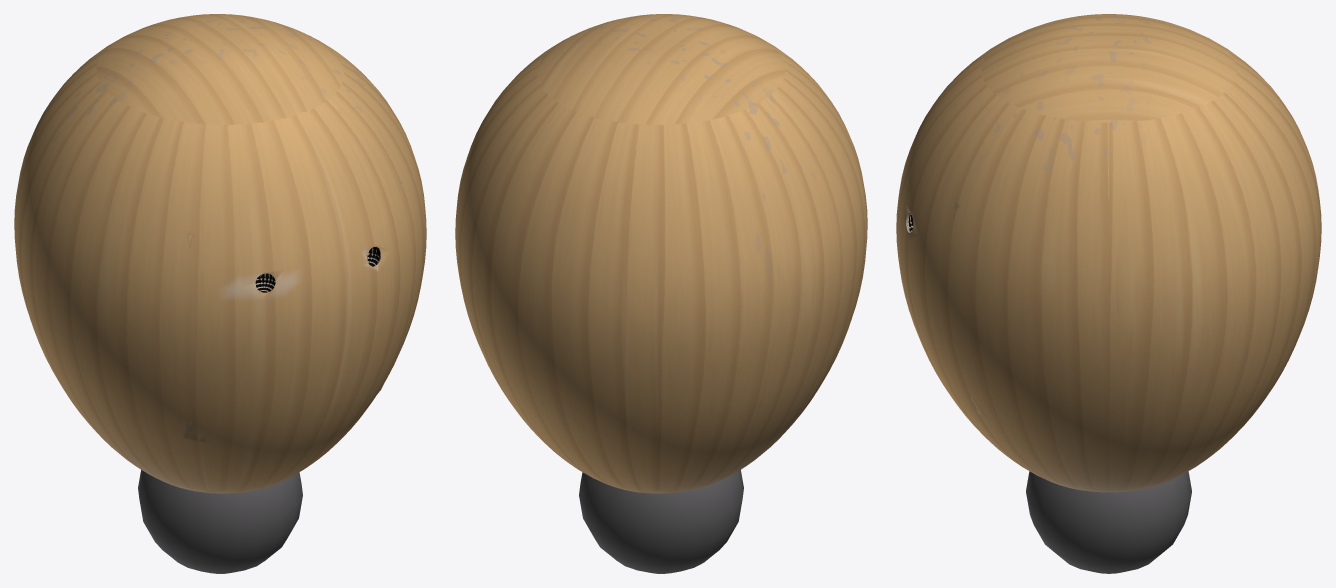
Rendered from Head.glb.
3 renders of one model, left to right at view 1: azimuth 30°, elevation 25°; view 2: azimuth 150°, elevation 25°; view 3: azimuth 270°, elevation 25°, orthographic.
Visible parts, largest first — view 1: Head, Head_Ball, FacePlate; view 2: Head, Head_Ball; view 3: Head, Head_Ball.
Part boxes in pixels (<box>): Head: <box>14,14,426,493</box>; Head_Ball: <box>138,470,302,573</box>; FacePlate: <box>184,183,405,441</box>; Head: <box>455,14,867,493</box>; Head_Ball: <box>579,470,743,573</box>; Head: <box>896,14,1321,492</box>; Head_Ball: <box>1026,471,1191,573</box>.
Size of the model in its own units: 0.246 by 0.3533 by 0.2558.
3 materials, 2 textured.
